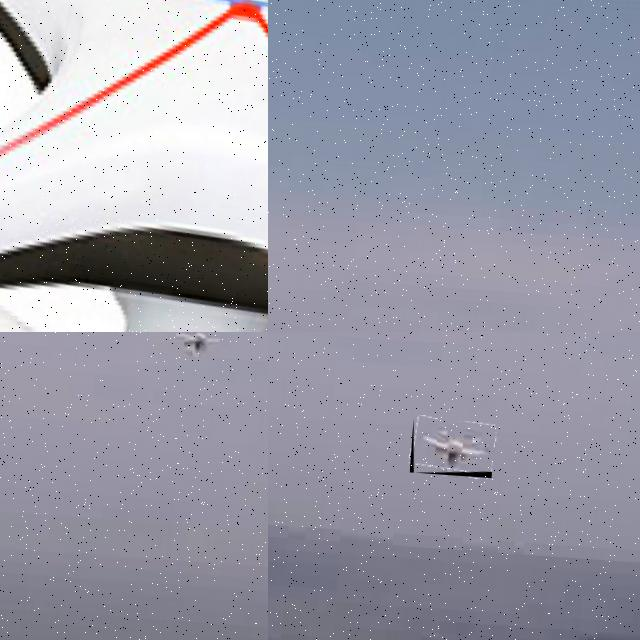0: (409, 418, 495, 478)
drone: (0, 0, 268, 332)
